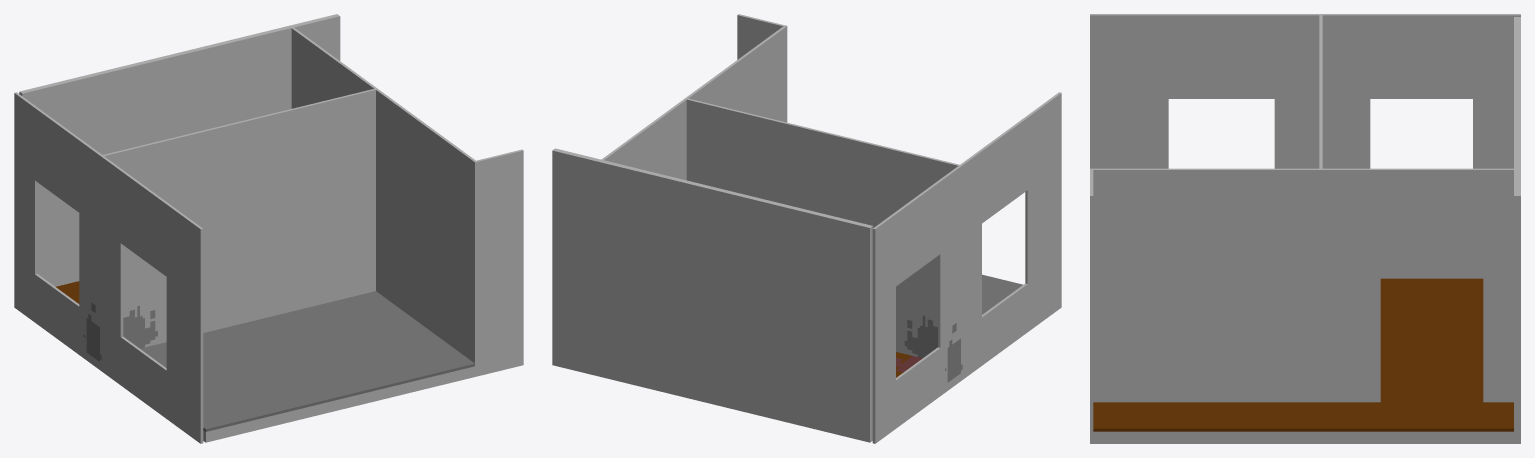
The model's file is 4x2 second-0.obj.
The picture shows the model from 3 angles, left to right: view 1: azimuth 30°, elevation 25°; view 2: azimuth 150°, elevation 25°; view 3: azimuth 270°, elevation 25°; orthographic projection. The views are drawn at different scales.
Parts seen in each view (by area): view 1: 4x2 second-0; view 2: 4x2 second-0; view 3: 4x2 second-0.
Part boxes in pixels (left/top/right/bottom): 4x2 second-0: left=14, top=14, right=523, bottom=443; 4x2 second-0: left=552, top=14, right=1061, bottom=443; 4x2 second-0: left=1090, top=14, right=1520, bottom=443.
Bounding box in the file's own units: 126 × 80 × 126.
1 material, 1 textured.
